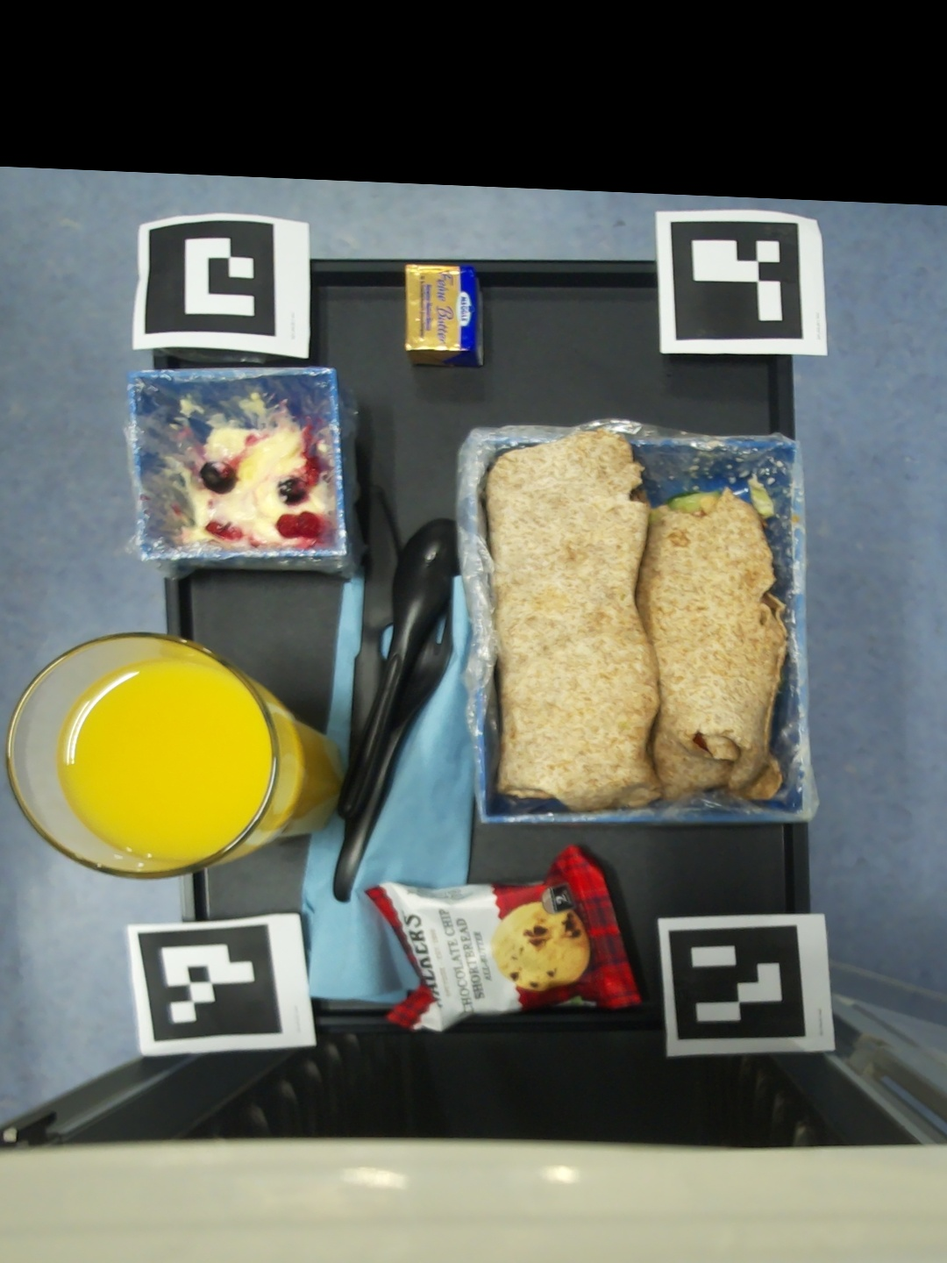butter: (404, 264, 483, 367)
cookie: (366, 845, 642, 1032)
orange_juice_bottle: (4, 632, 342, 880)
vanilla_pudding_with_fruits: (177, 409, 328, 548)
wrap_half_1: (486, 431, 661, 811)
wrap_half_2: (635, 474, 788, 800)
